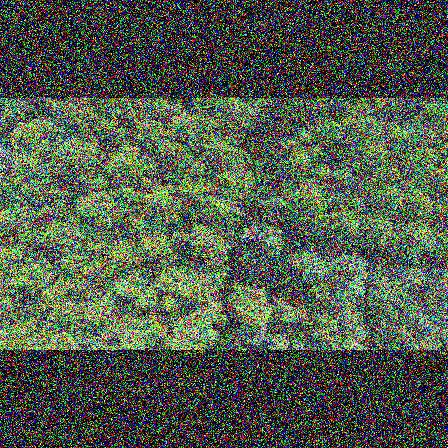Dead: (0, 143, 16, 172)
